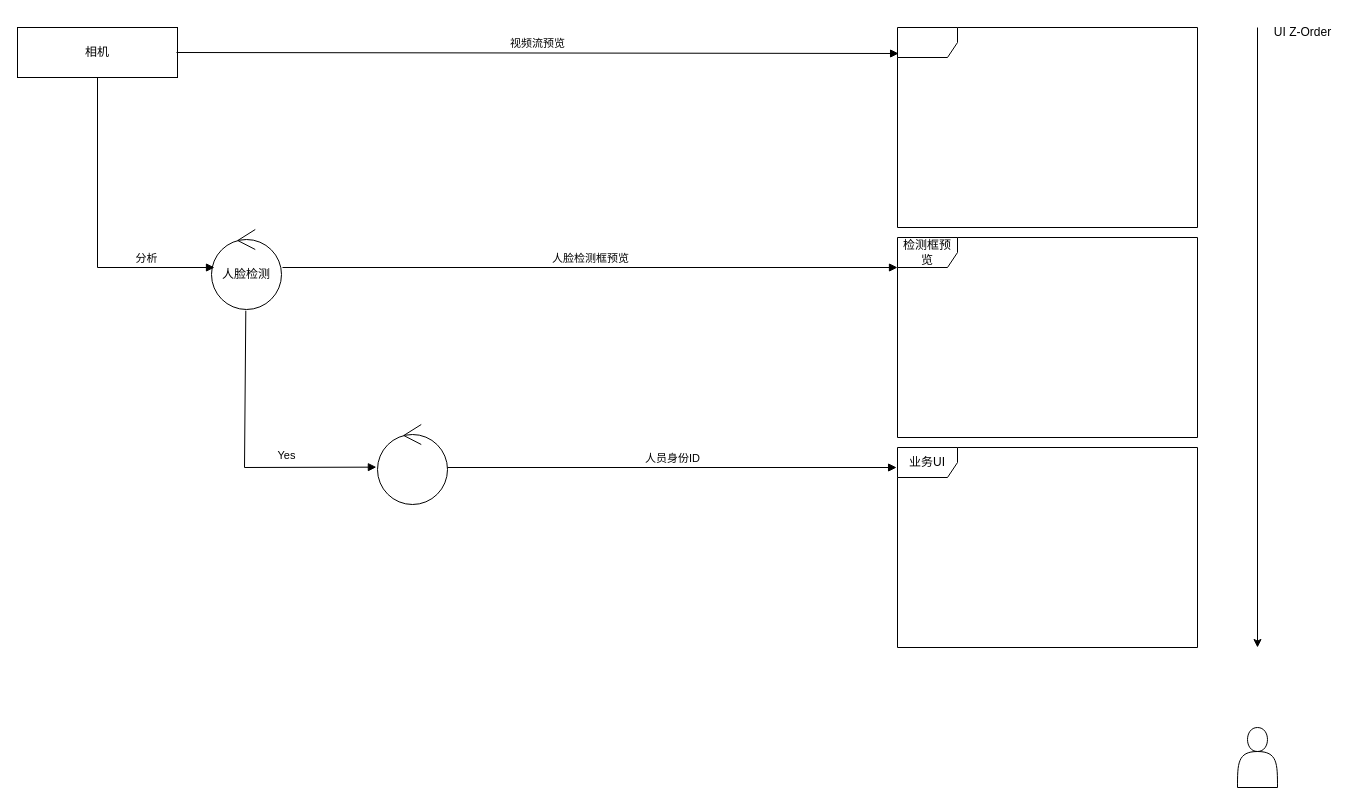
Image size: 1360x805. Some labels were removed from this diagram. The box of each missing label's shape, as (x1, y1, x2, y2) in pixels:
人脸识别: (376, 424, 448, 504)
相机预览: (896, 26, 1198, 228)
